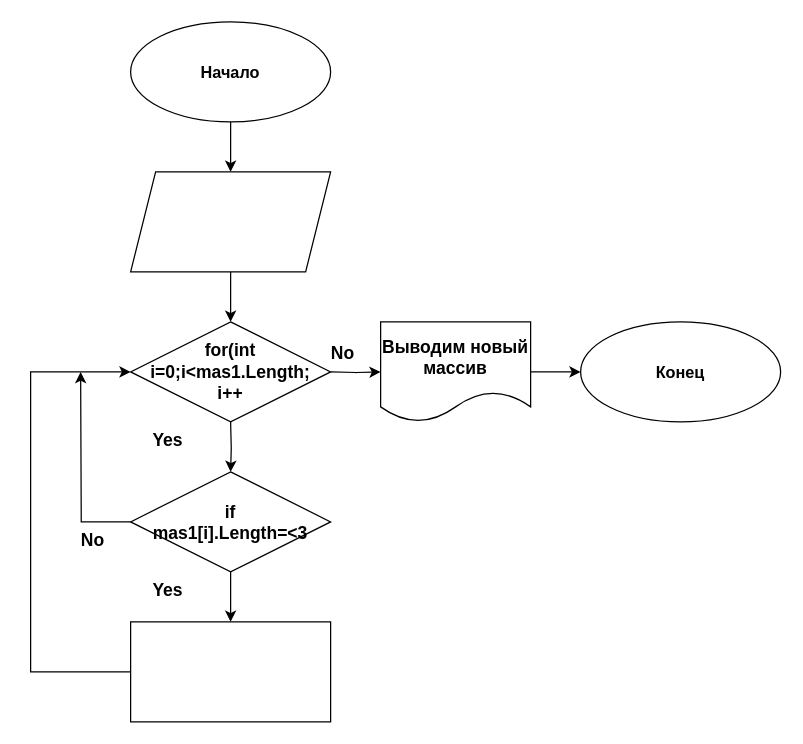
Some shapes in this 803 by 744 pixel diagram are drawn without their labels. Here are the shapes that lost their labels. From the top down, the centre of each, then its label:
point (230, 221): mas1=[a1,a2,...,an] mas2=[ ] count=0 A
point (230, 671): mas2[count]=mas1[i]; count=count+1;
